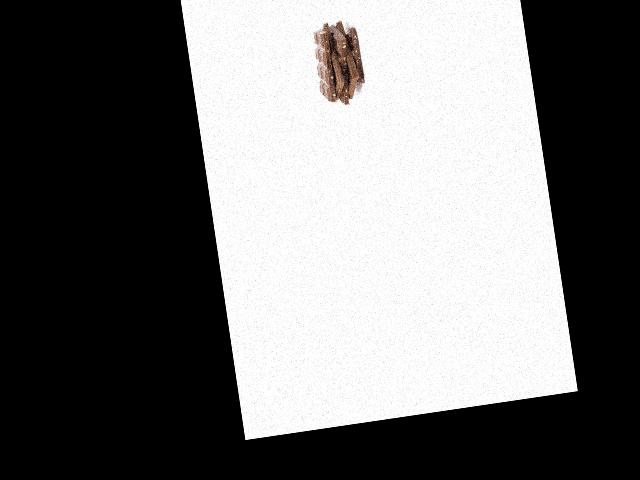chocolate: (329, 19, 371, 100)
